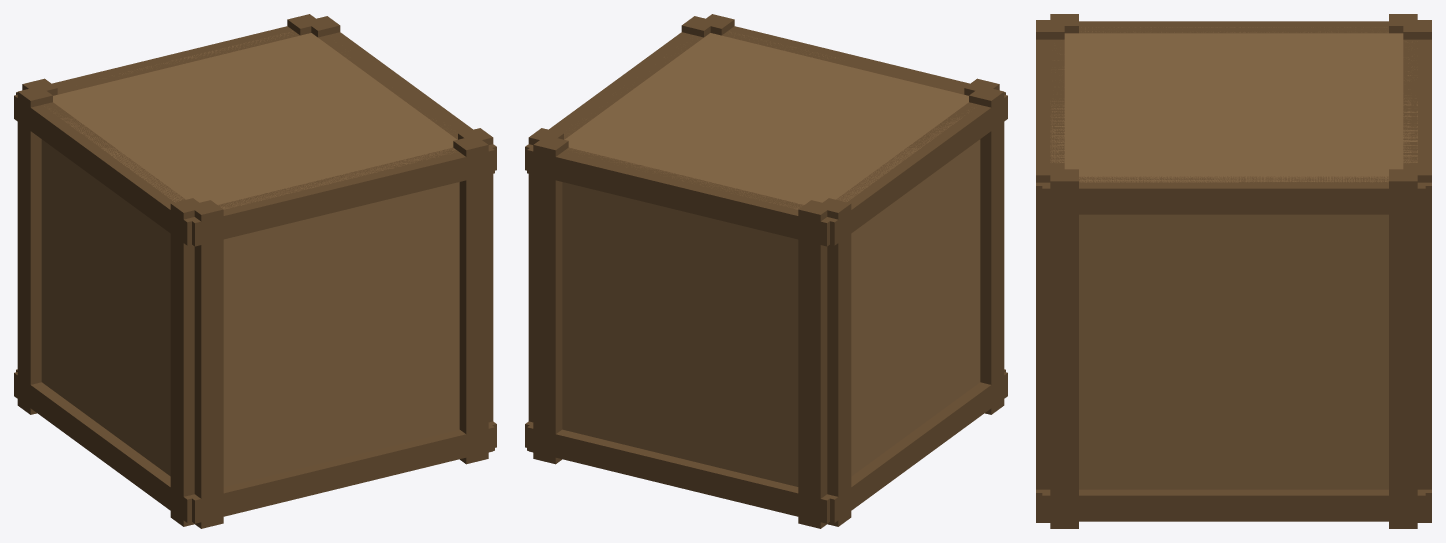
The model's file is crate_wood_small.glb.
3 views of the same model, side by side, from view 1: azimuth 30°, elevation 25°; view 2: azimuth 150°, elevation 25°; view 3: azimuth 270°, elevation 25° (orthographic). The views are drawn at different scales.
Parts seen in each view (by area): view 1: Paint, CrateSmall; view 2: Paint, CrateSmall; view 3: Paint, CrateSmall.
Boxes of the visible parts, left/top/right/bottom form: Paint: left=41, top=31, right=459, bottom=486; CrateSmall: left=14, top=14, right=496, bottom=528; Paint: left=562, top=31, right=980, bottom=486; CrateSmall: left=525, top=14, right=1007, bottom=528; Paint: left=1050, top=27, right=1417, bottom=489; CrateSmall: left=1036, top=14, right=1431, bottom=528.
Bounding box in the file's own units: 0.97 × 0.94 × 0.97.
